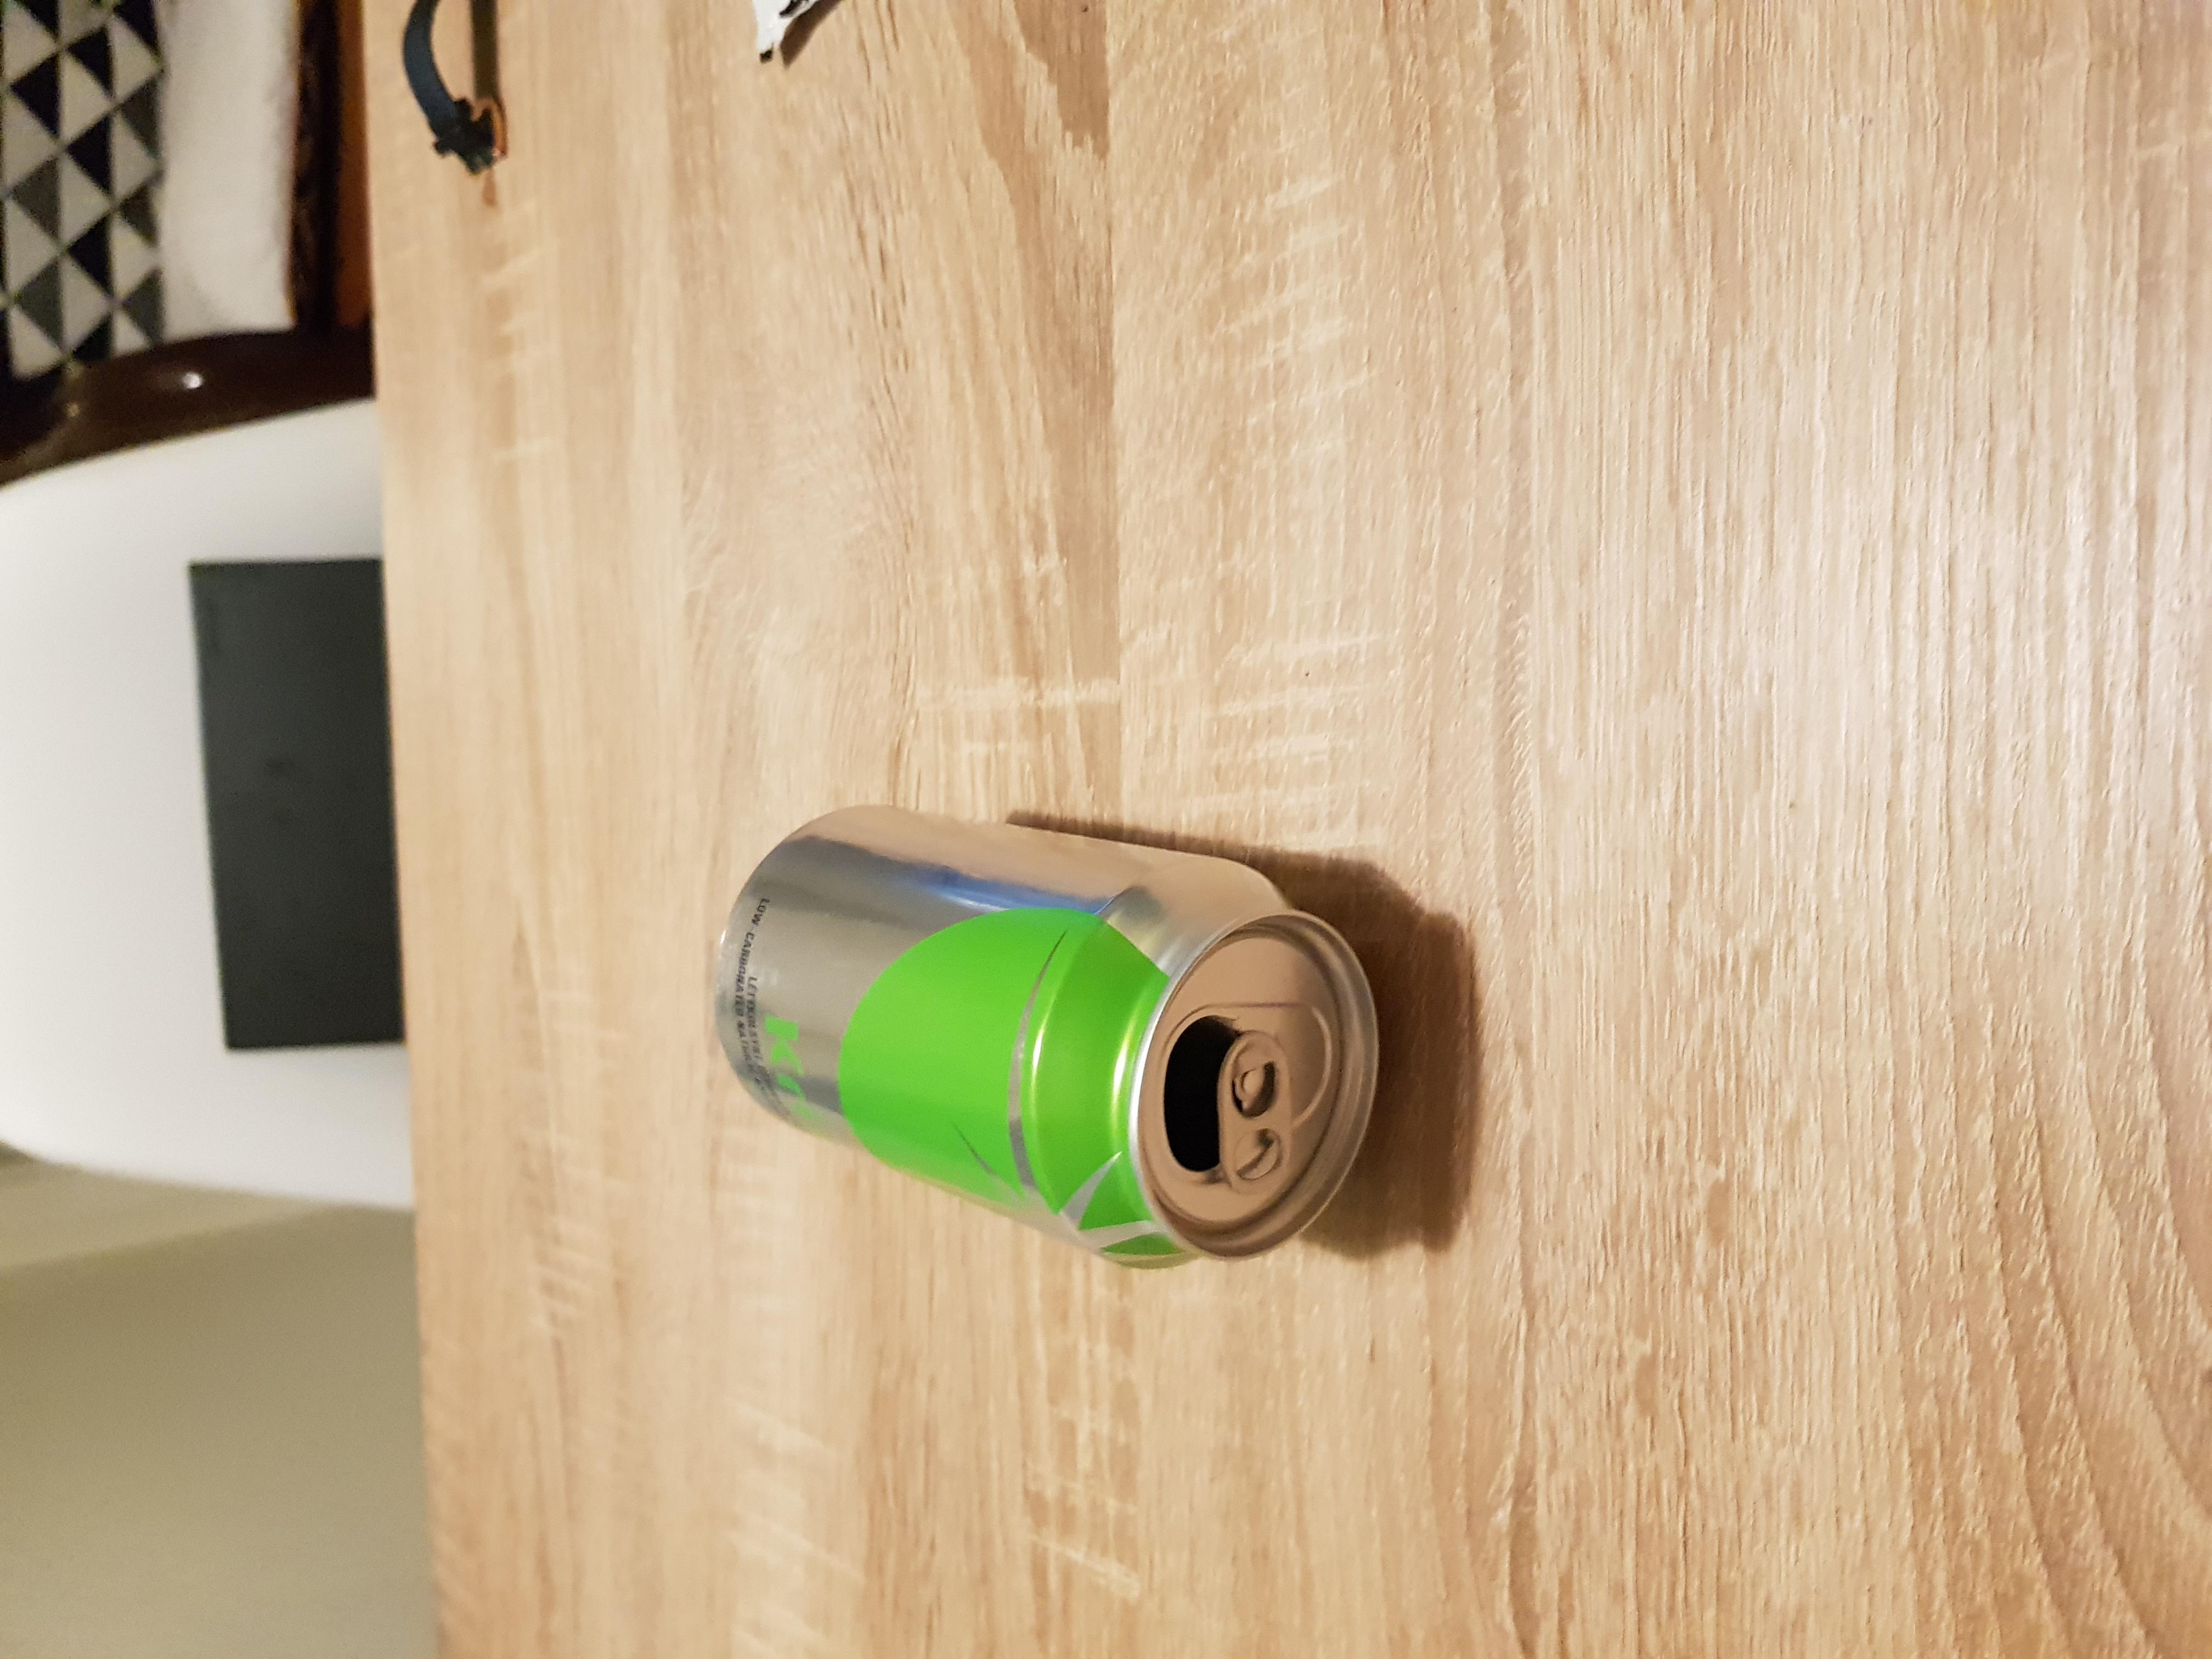can: (676, 791, 1407, 1255)
